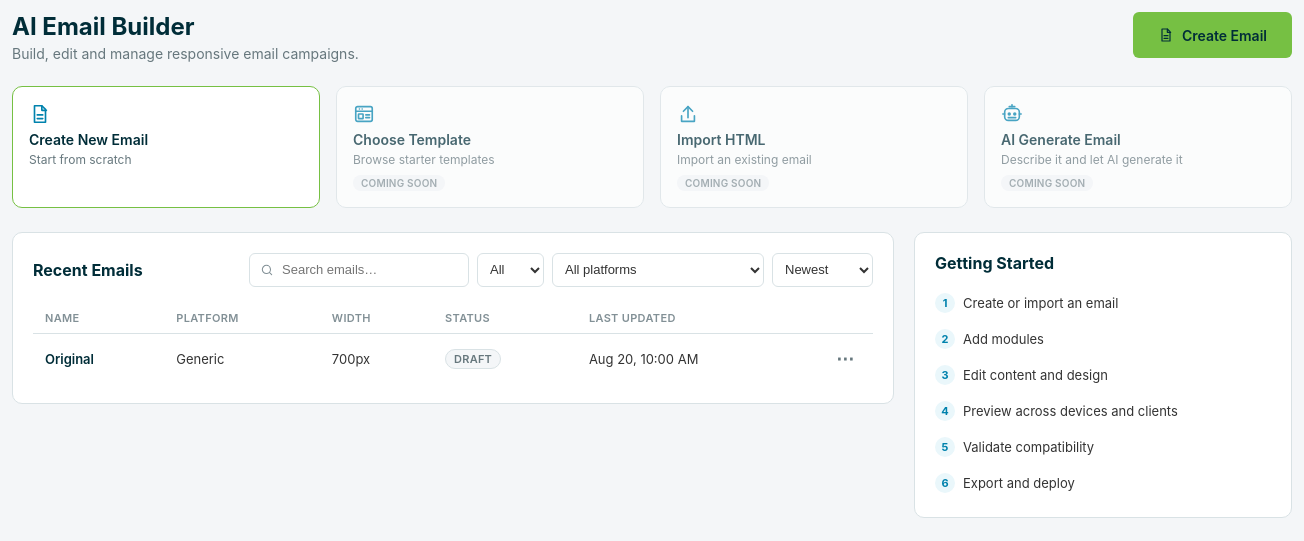
Test: EmailBuilderDashboardPage — row actions › Duplicate creates an independent copy and shows it in the list
Expected: the link "Original" is shown, [45,350,94,366]
Click the button named "Actions for Original": (845, 358) [829,342,861,374]
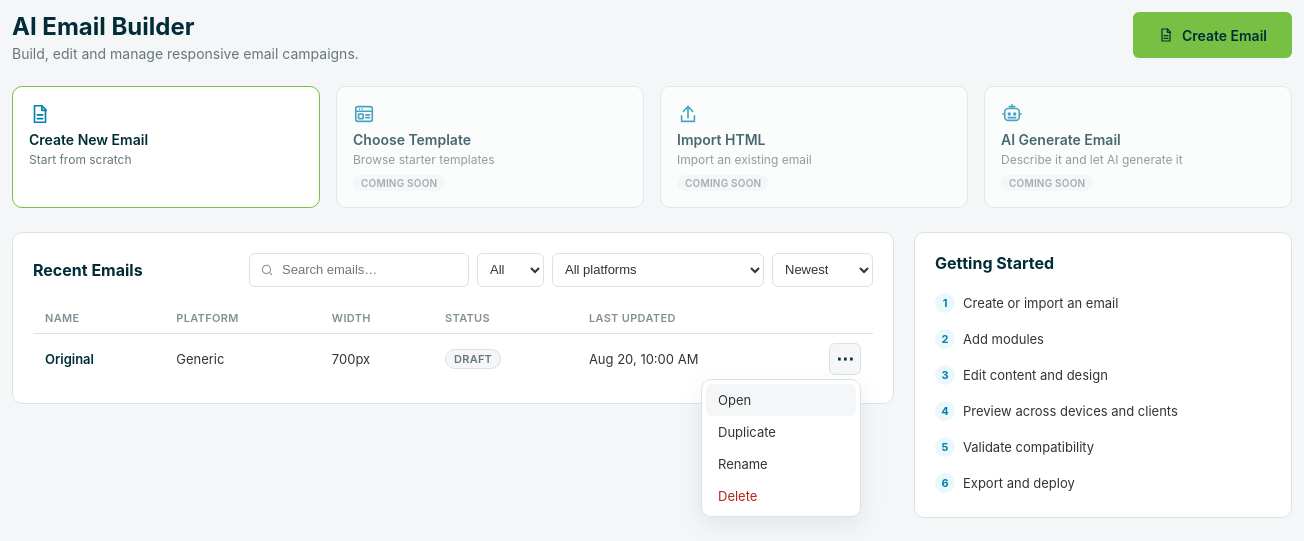
Click the menu item "Duplicate": (781, 432) [706,416,856,448]
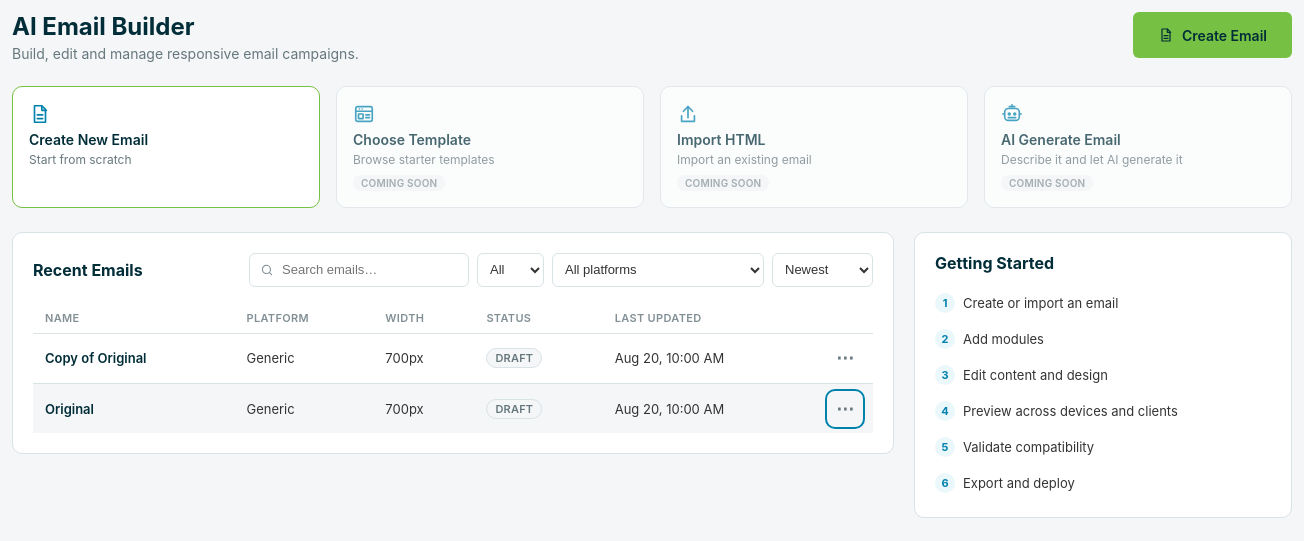
Expected: the link "Original" is shown, [45,400,94,416]
Expected: the link "Copy of Original" is shown, [45,350,146,366]
